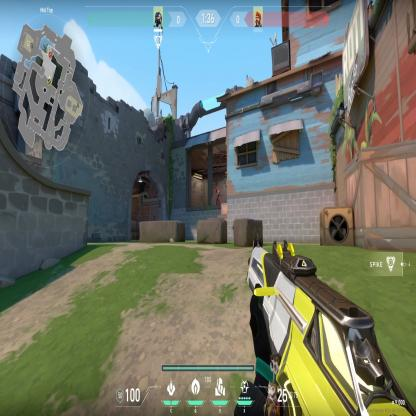enemy: (215, 184, 221, 206)
